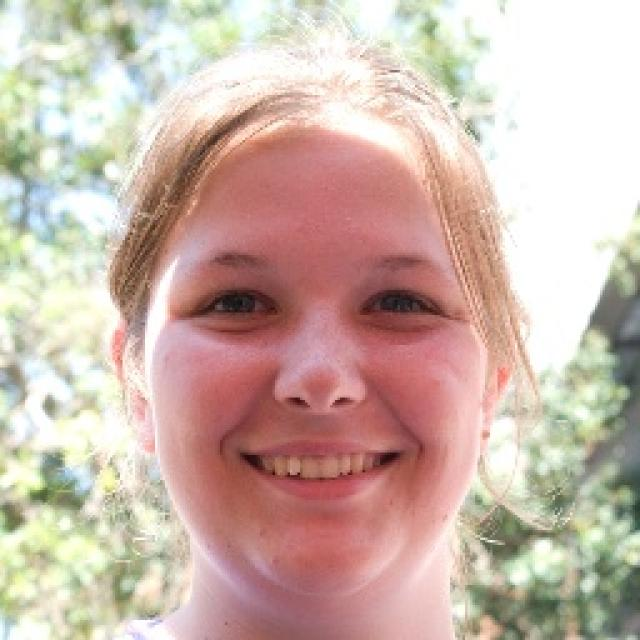earlobe: (110, 320, 158, 454)
